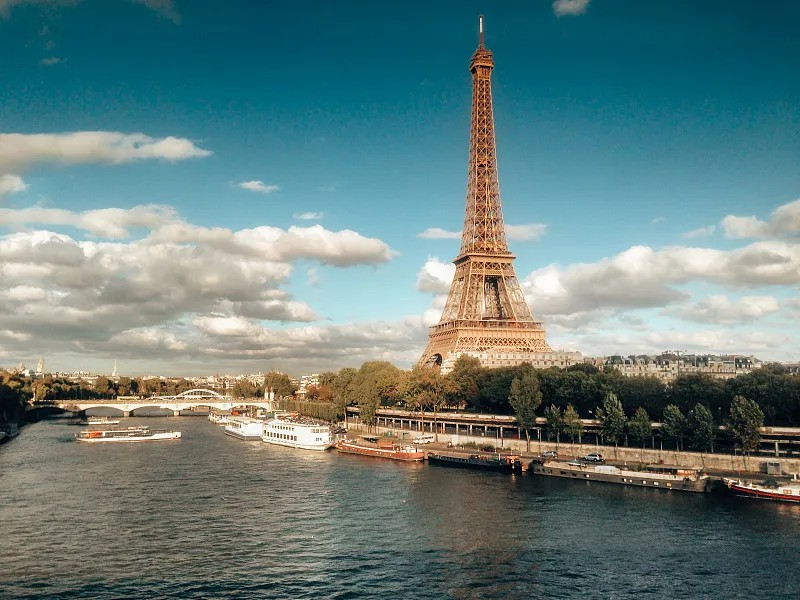Eiffel: (413, 13, 556, 374)
